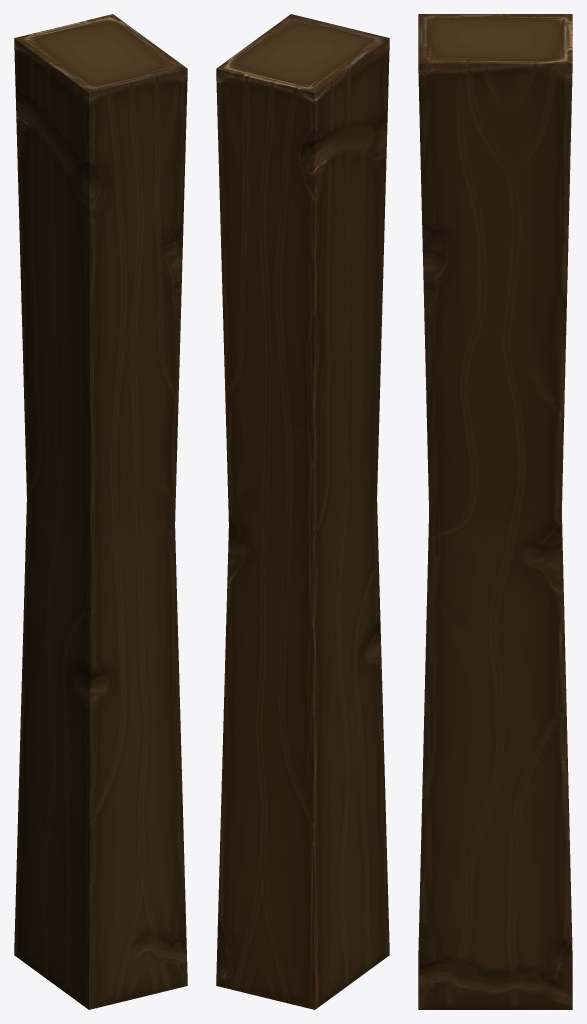
Rendered from Wood Beam.003 (1).fbx.
The picture shows the model from 3 angles, left to right: view 1: azimuth 30°, elevation 25°; view 2: azimuth 150°, elevation 25°; view 3: azimuth 270°, elevation 25°; orthographic projection. The views are drawn at different scales.
Parts seen in each view (by area): view 1: Wood_Beam_003__1_; view 2: Wood_Beam_003__1_; view 3: Wood_Beam_003__1_.
Boxes of the visible parts, bbox=[...] form: Wood_Beam_003__1_: bbox=[14, 14, 187, 1009]; Wood_Beam_003__1_: bbox=[216, 14, 389, 1009]; Wood_Beam_003__1_: bbox=[418, 14, 572, 1009].
Bounding box in the file's own units: 31.23 × 277 × 40.97.
1 material, 1 textured.
